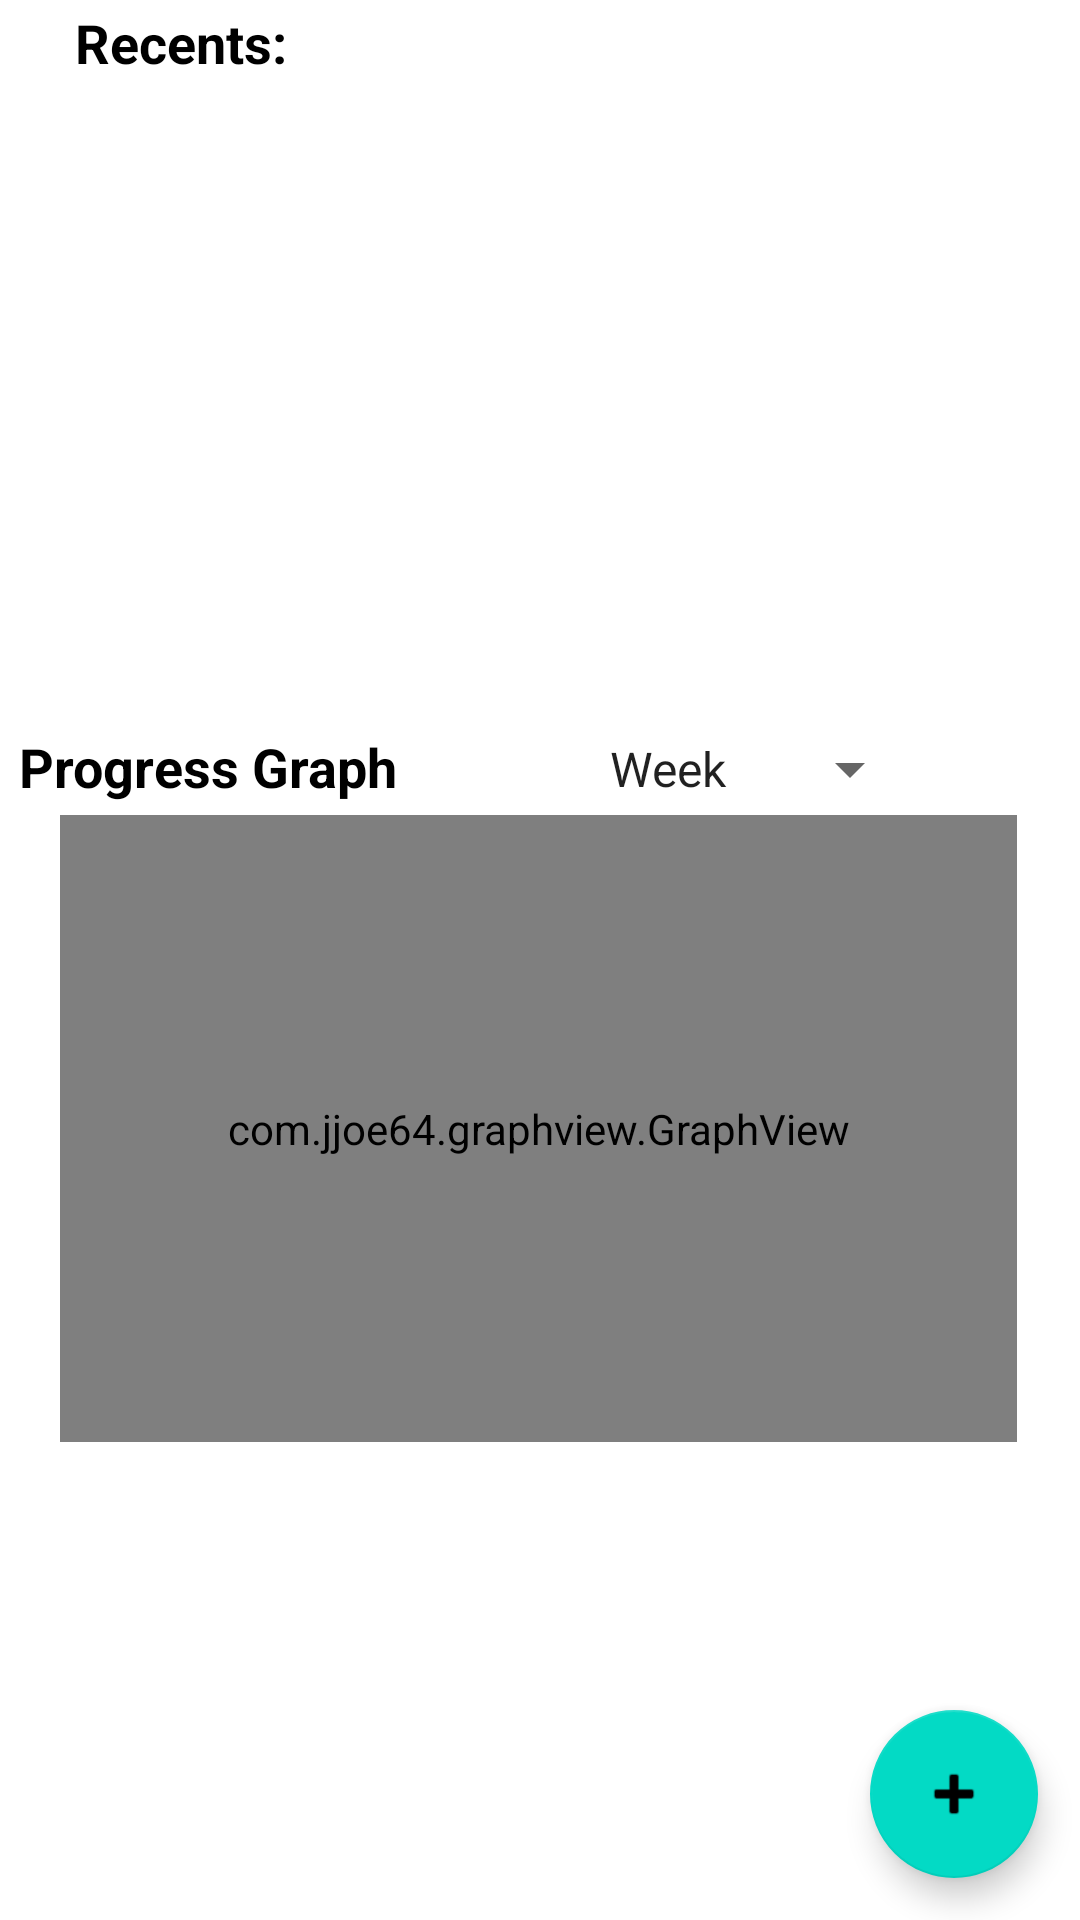

Icons on this 1080×1920 Android screen, each with the point to tap as (x,y):
add: (954,1794)
